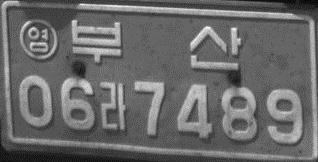0: (18, 74, 52, 129)
4: (176, 83, 212, 139)
6: (59, 76, 96, 131)
7: (133, 80, 165, 137)
8: (220, 85, 258, 143)
9: (265, 88, 303, 144)
라: (99, 80, 128, 132)
부산_D: (70, 19, 242, 71)
영: (18, 16, 58, 61)
